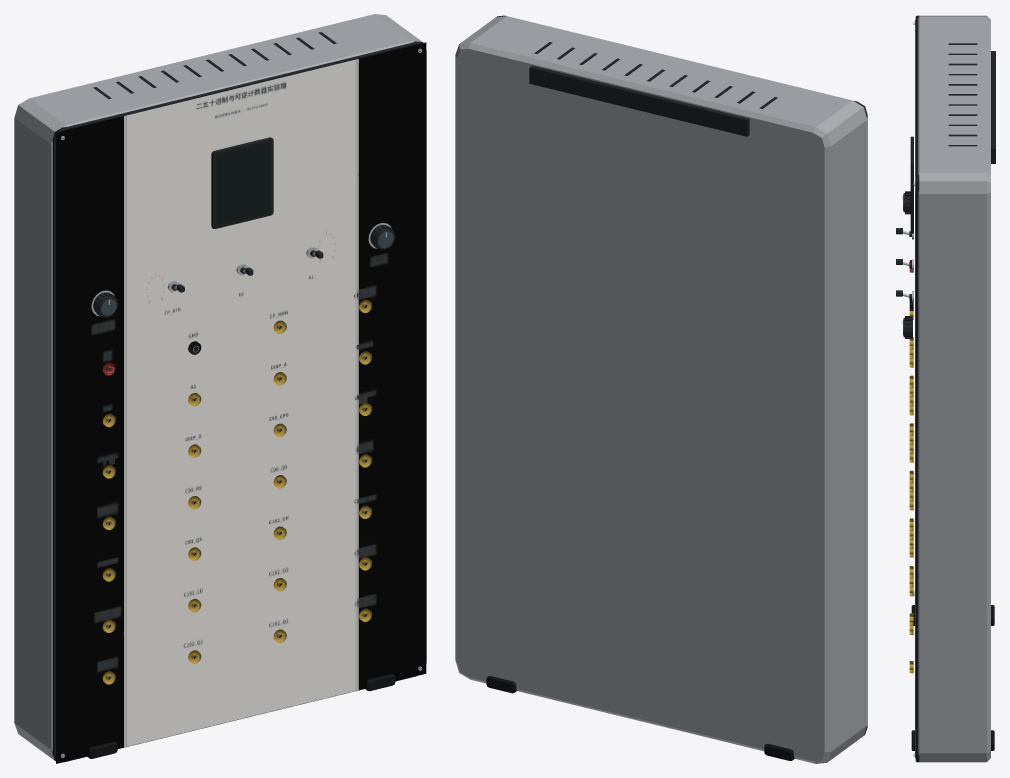
File: module.glb
3 views of the same model, side by side, from view 1: azimuth 30°, elevation 25°; view 2: azimuth 150°, elevation 25°; view 3: azimuth 270°, elevation 25° (orthographic). The views are drawn at different scales.
Parts seen in each view (by area): view 1: PANEL_silkscreen, STATIC_paint, DISPLAY_DISP_CNT, STATIC_metal; view 2: STATIC_paint; view 3: STATIC_paint, MOVING_LD_VAL_paint.
Boxes of the visible parts, bbox=[...] form: PANEL_silkscreen: bbox=[56, 42, 426, 763]; STATIC_paint: bbox=[14, 14, 426, 762]; DISPLAY_DISP_CNT: bbox=[216, 142, 270, 225]; STATIC_metal: bbox=[60, 48, 422, 757]; STATIC_paint: bbox=[455, 15, 867, 763]; STATIC_paint: bbox=[909, 15, 995, 762]; MOVING_LD_VAL_paint: bbox=[902, 316, 912, 338].
Size of the model in its own units: 0.29 by 0.4701 by 0.0723.
9 materials, 1 textured.
